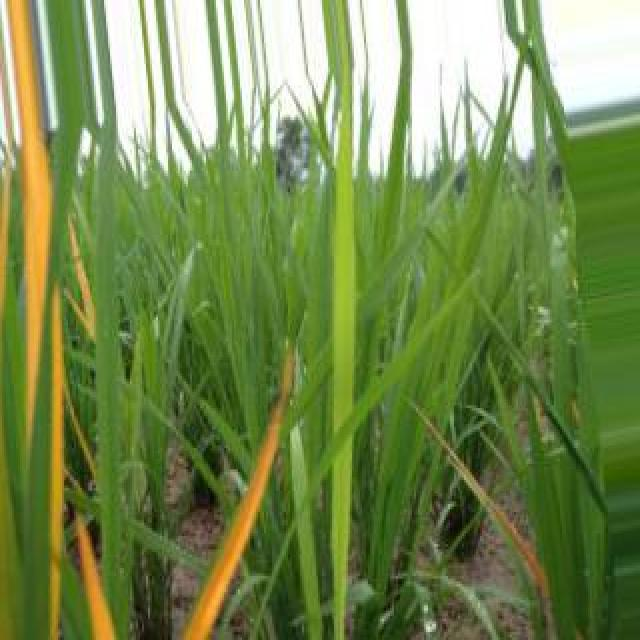Rice Tungro: (183, 347, 292, 639), (412, 402, 549, 598), (9, 0, 52, 434), (16, 0, 49, 208), (49, 283, 65, 638), (77, 515, 115, 638), (66, 220, 96, 341)
